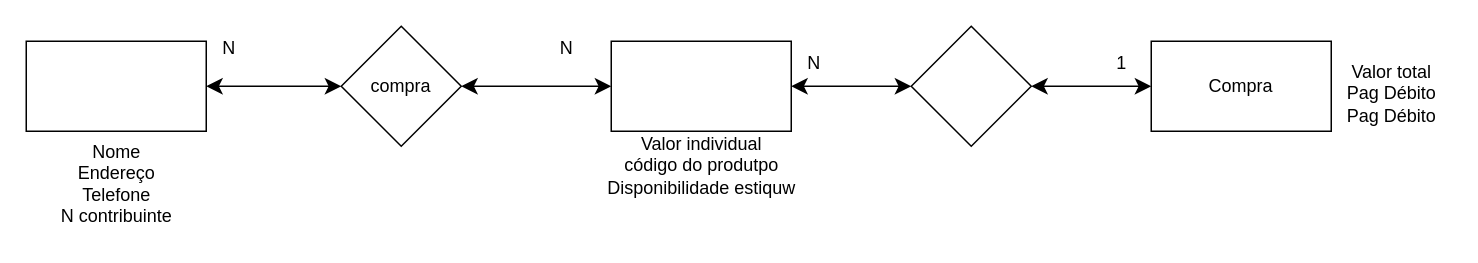
Some shapes in this 1478 by 263 pixel diagram are drawn without their labels. The shapes that lost their labels are listed below. From the top down, each one's centre as x and y in pixels, then its label:
point (115, 85): Cliente
point (700, 85): Produto
